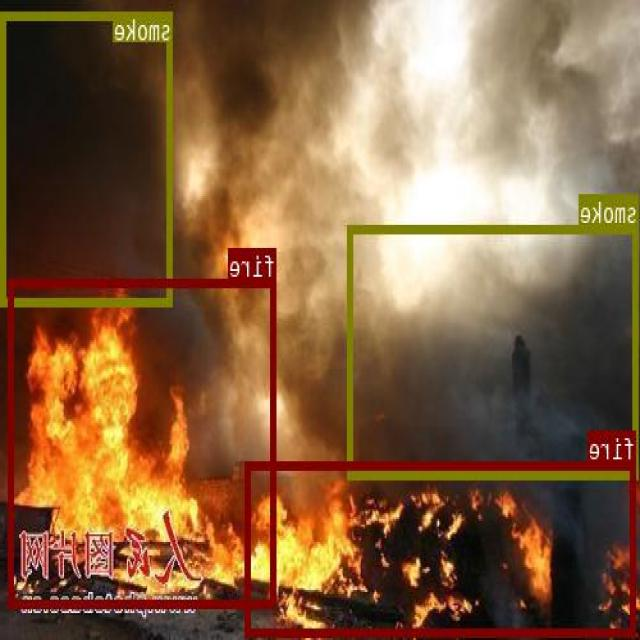fire: (9, 277, 277, 606), (246, 460, 637, 635)
smoke: (348, 224, 639, 478), (3, 10, 174, 304)
